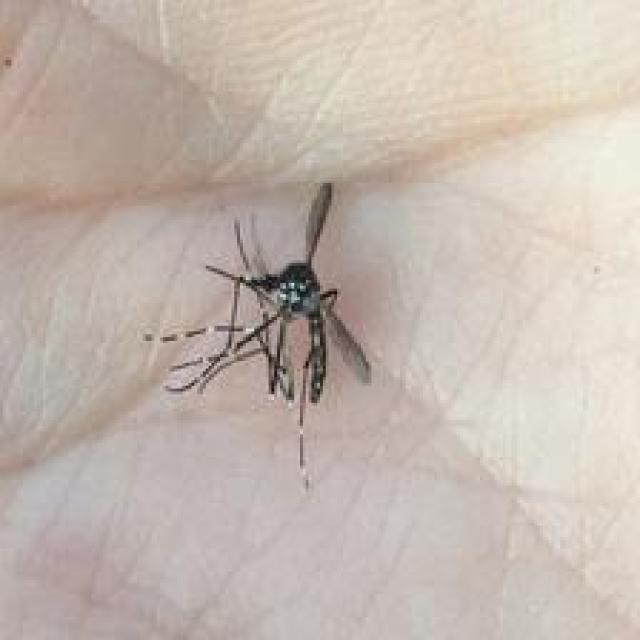Aedes albopictus: (141, 181, 373, 490)
